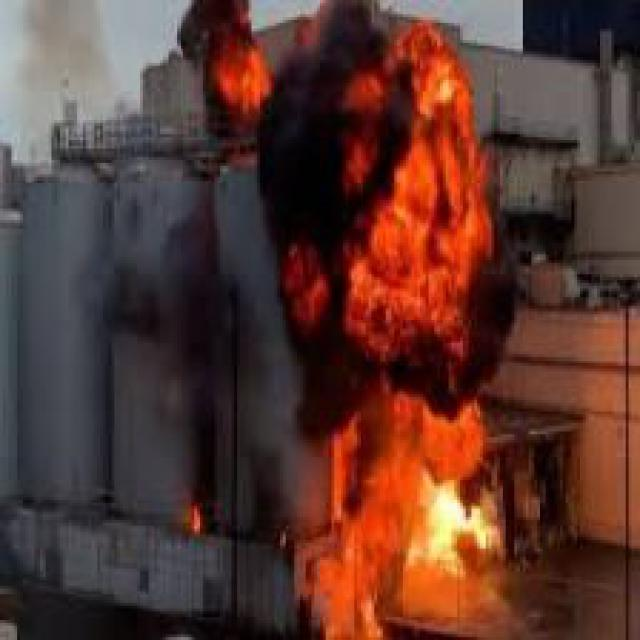fire: (277, 9, 520, 400), (288, 372, 508, 637), (186, 17, 280, 132)
